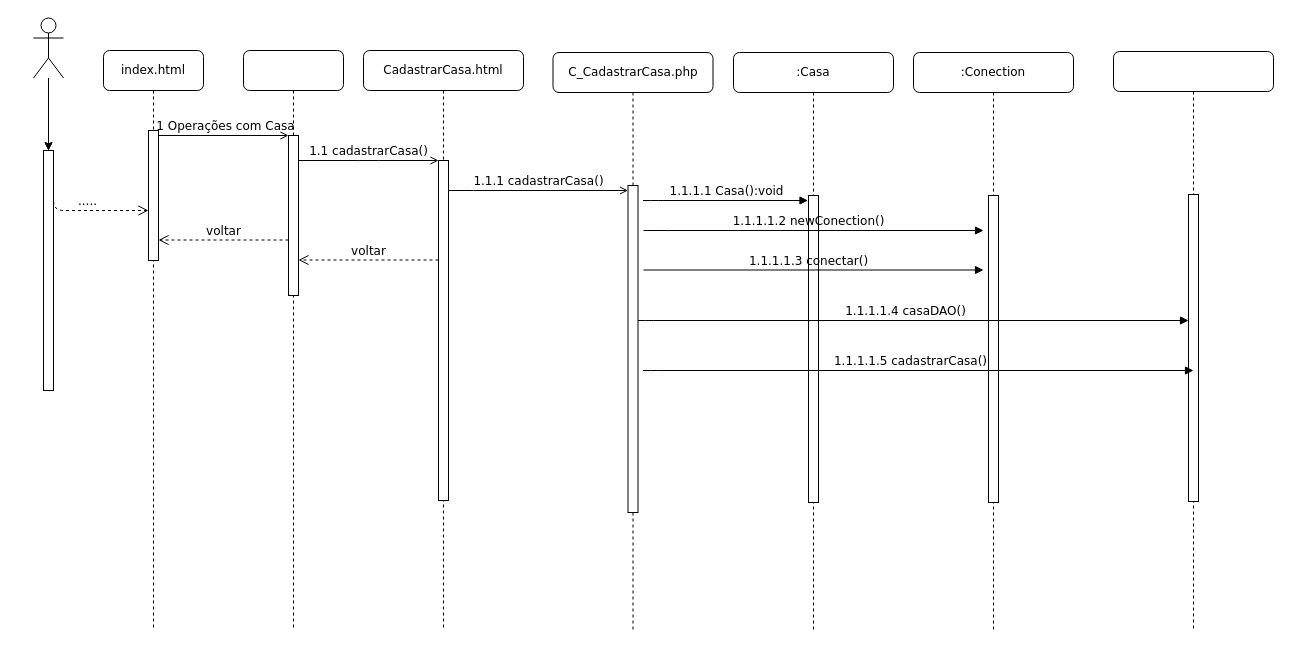
The diagram is 1291 pixels wide and 648 high, and some of its shapes have lost their labels. Each missing label, with the box of its shape:
:CasaDAO: (1112, 50, 1274, 630)
Casa.html: (242, 50, 344, 630)
Funcionario: (32, 17, 64, 78)
